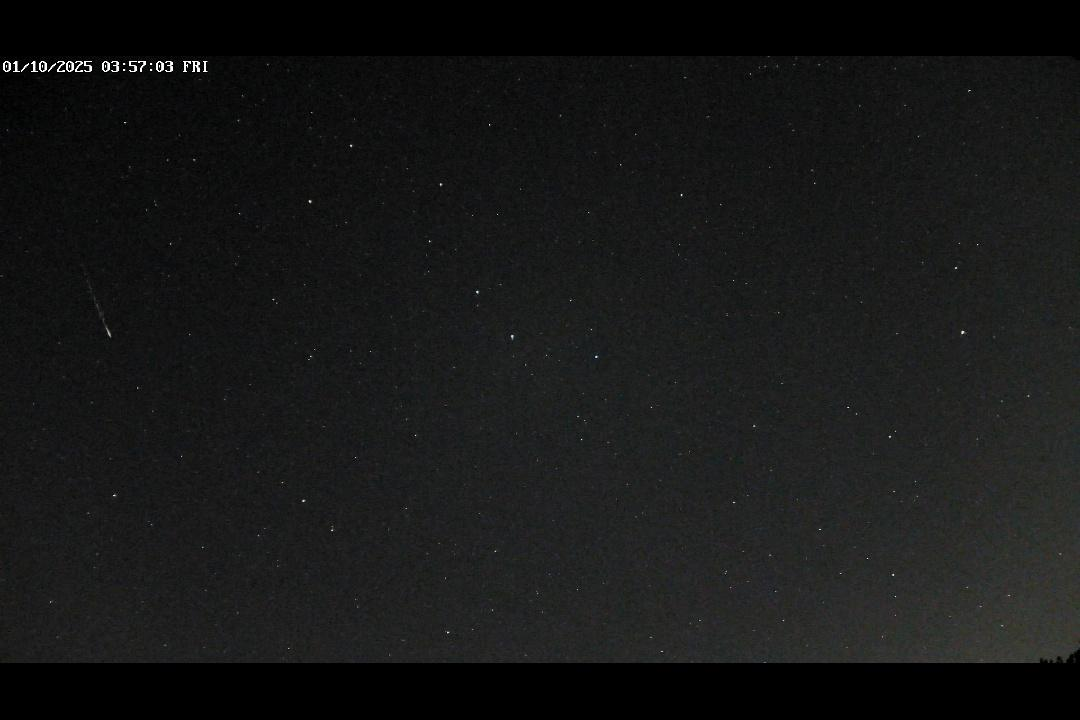meteorite: (78, 261, 119, 343)
